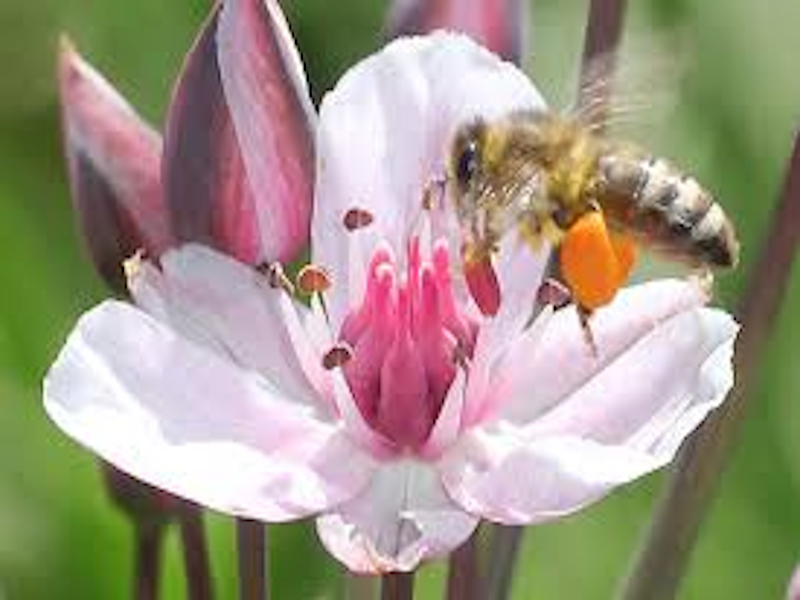abeja: (415, 54, 757, 317)
